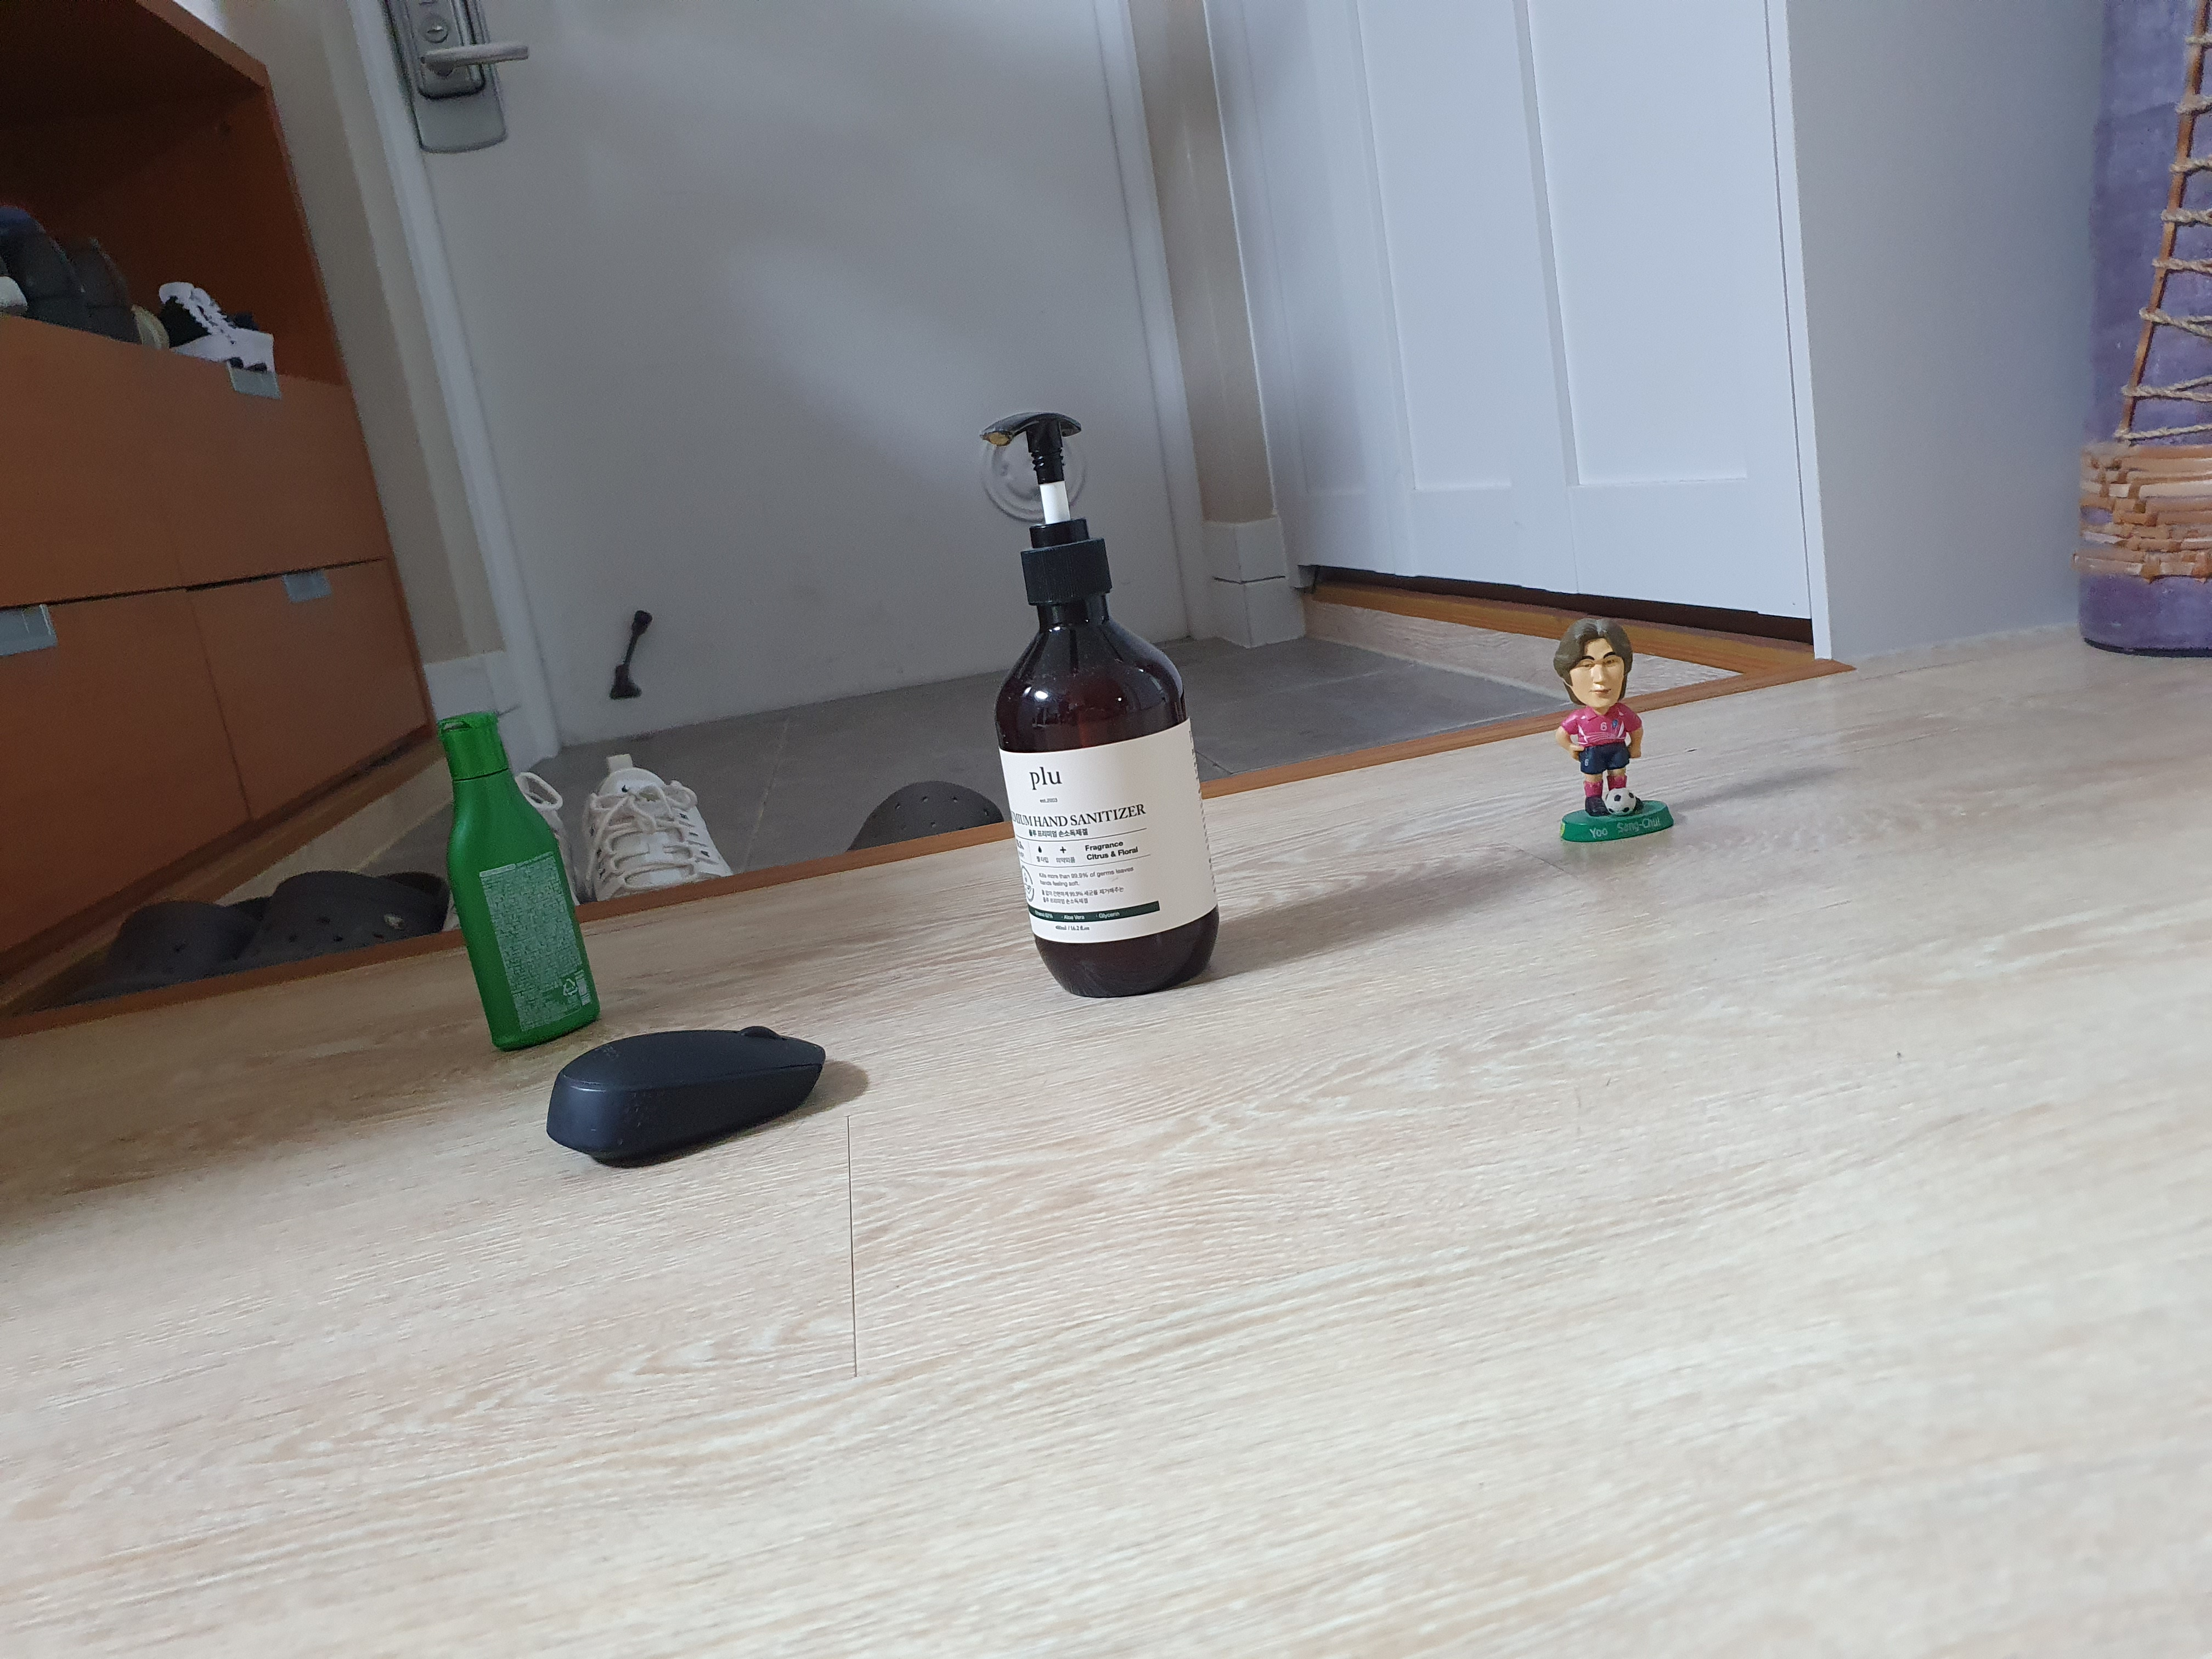bottle: (923, 383, 1259, 1012)
mouse: (531, 934, 857, 1302)
shampoo: (359, 680, 632, 1047)
yoo: (1515, 619, 1693, 859)
